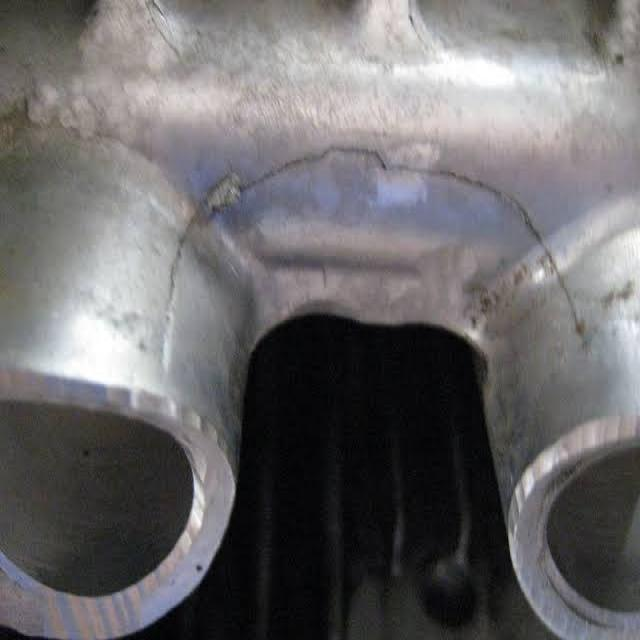Dry Waste: (93, 126, 593, 598)
